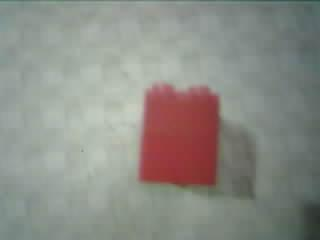lego: (136, 81, 221, 189)
